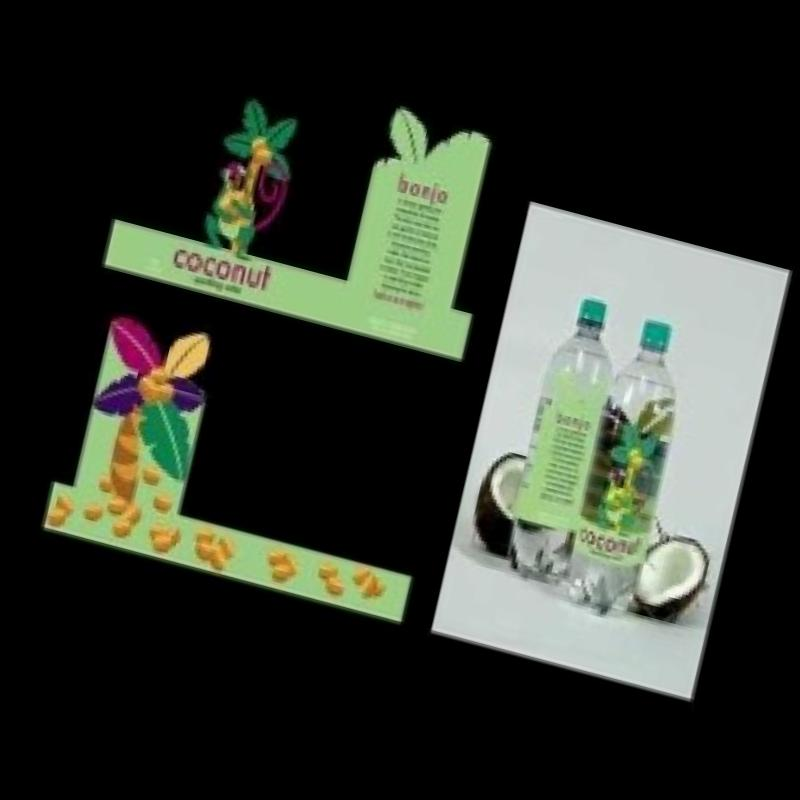botella: (545, 306, 702, 618), (488, 294, 629, 582)
